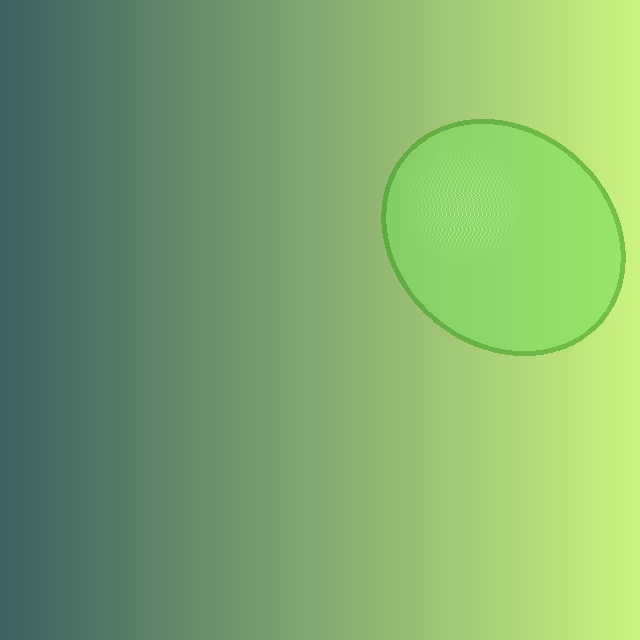lens: (384, 121, 622, 353)
